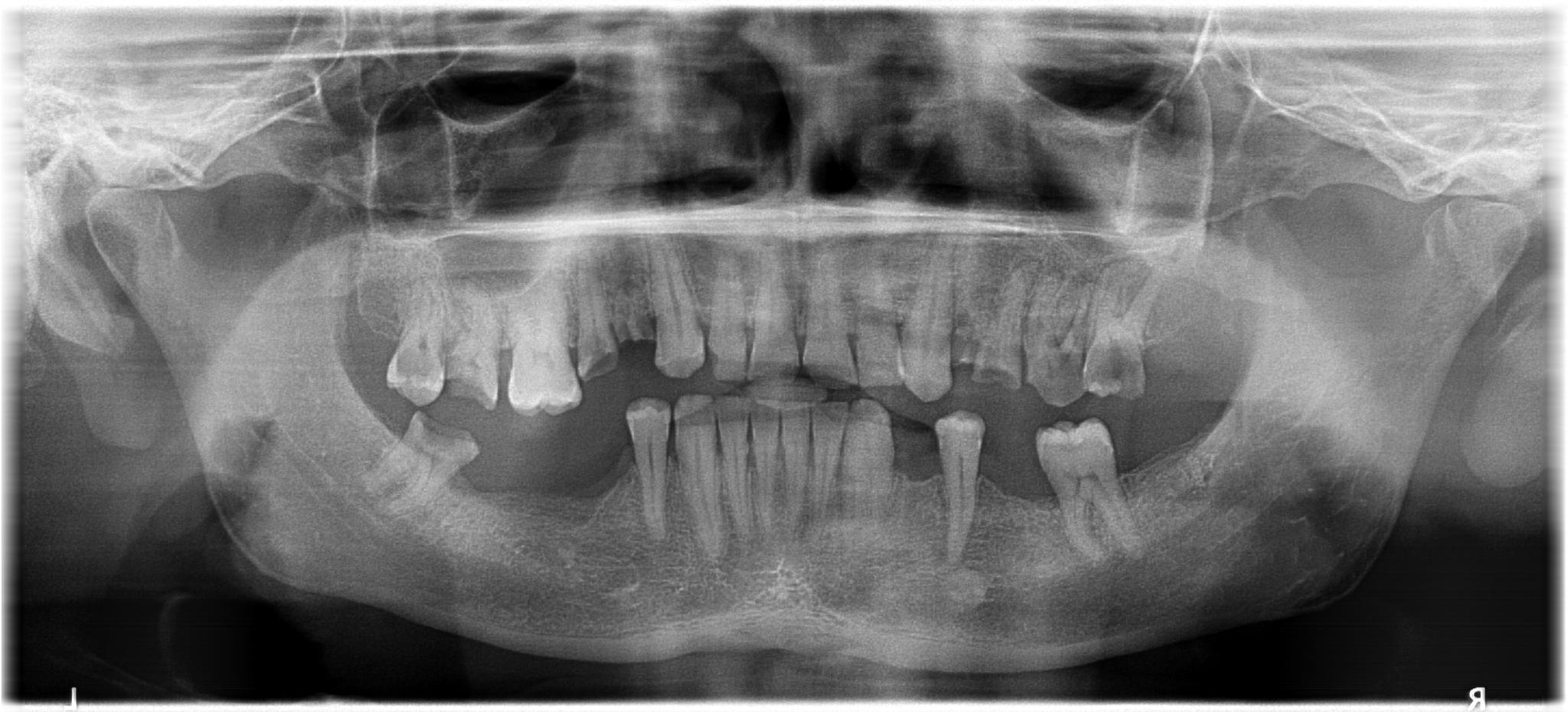Premolars: (577, 282, 1568, 707), (503, 208, 1463, 611), (539, 206, 1568, 491), (572, 187, 1568, 471), (506, 188, 1542, 459), (356, 101, 1066, 396), (285, 85, 856, 431), (214, 191, 598, 625), (335, 221, 981, 463), (256, 192, 757, 477), (230, 193, 673, 467)
